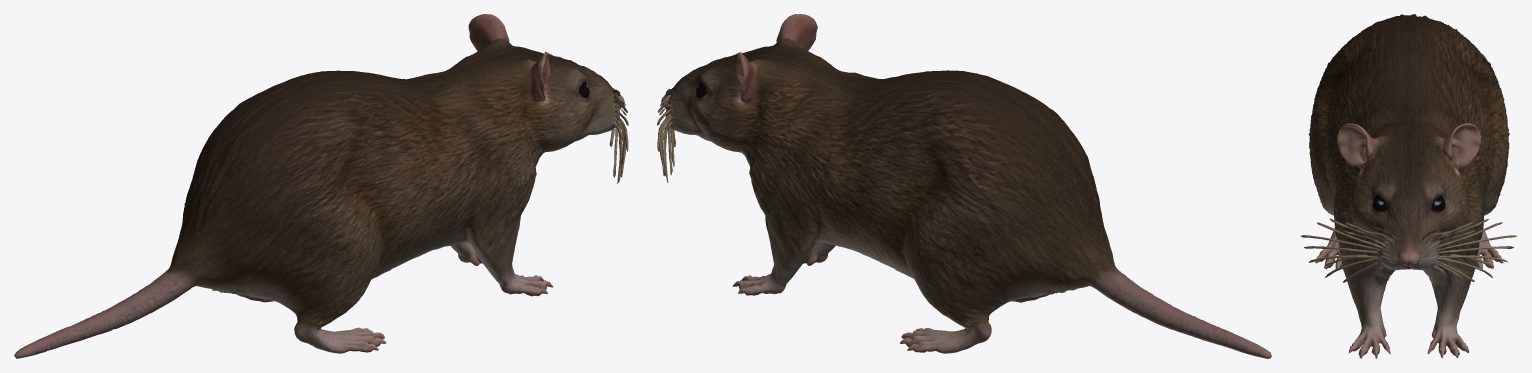
File: rat.glb
The picture shows the model from 3 angles, left to right: view 1: azimuth 30°, elevation 25°; view 2: azimuth 150°, elevation 25°; view 3: azimuth 270°, elevation 25°; orthographic projection. The views are drawn at different scales.
Parts seen in each view (by area): view 1: tripo_node_ffaddff0-1843-4ce8-8bc9-7d9bdd8b4b65; view 2: tripo_node_ffaddff0-1843-4ce8-8bc9-7d9bdd8b4b65; view 3: tripo_node_ffaddff0-1843-4ce8-8bc9-7d9bdd8b4b65.
Part boxes in pixels (box(x1,y1,x2,y2)): tripo_node_ffaddff0-1843-4ce8-8bc9-7d9bdd8b4b65: box(14, 14, 628, 358); tripo_node_ffaddff0-1843-4ce8-8bc9-7d9bdd8b4b65: box(657, 14, 1271, 358); tripo_node_ffaddff0-1843-4ce8-8bc9-7d9bdd8b4b65: box(1300, 14, 1516, 358).
Size of the model in its own units: 0.9823 by 0.3753 by 0.3143.
Materials: 1 (1 with a texture image).
